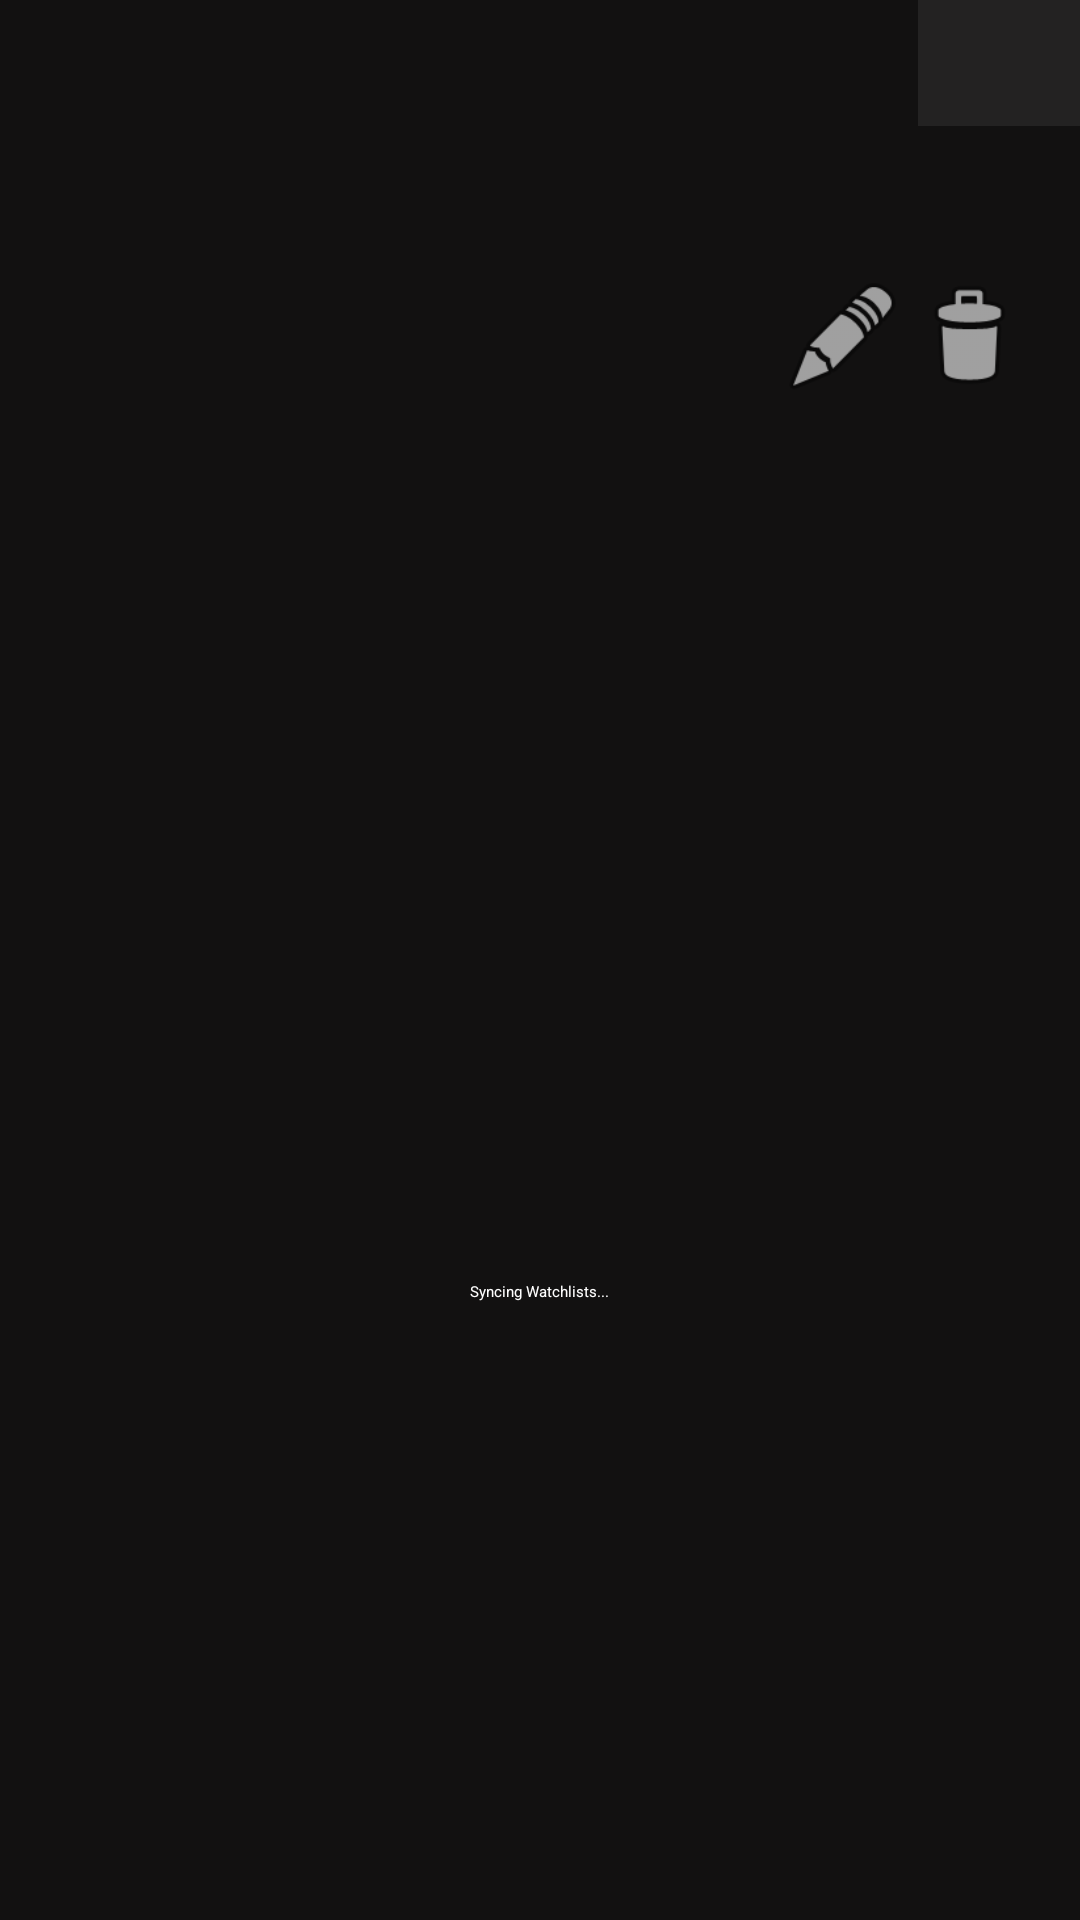

Icon click points for this 1080*1920 phone screenshot, format [x,y]:
delete: [969,335]
edit: [842,336]
